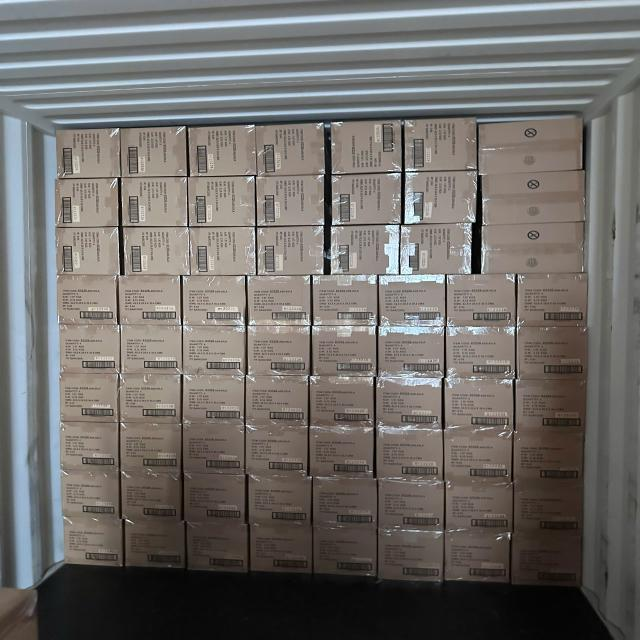Carton: (478, 117, 584, 175), (479, 172, 587, 226), (479, 222, 585, 276), (442, 380, 514, 439), (516, 430, 587, 487), (517, 382, 589, 438), (402, 175, 478, 228), (332, 121, 405, 176), (519, 273, 591, 328), (520, 326, 590, 382), (405, 119, 477, 173), (513, 536, 585, 590), (442, 429, 512, 484), (516, 483, 587, 537), (373, 380, 441, 436), (401, 222, 474, 274), (378, 431, 447, 486), (256, 125, 326, 179), (332, 176, 403, 229), (444, 328, 515, 381), (449, 275, 520, 328), (330, 223, 402, 275), (379, 530, 447, 585), (312, 378, 378, 434), (314, 477, 381, 532), (256, 179, 326, 231), (376, 481, 443, 535), (190, 125, 258, 178), (120, 178, 189, 230), (443, 484, 512, 536), (120, 126, 188, 178), (380, 328, 448, 380), (189, 179, 258, 230), (249, 477, 315, 530), (312, 429, 378, 482), (183, 275, 248, 328), (248, 275, 313, 328), (314, 276, 380, 328), (54, 470, 120, 522), (257, 229, 325, 279), (249, 327, 313, 380), (118, 275, 183, 327), (315, 529, 380, 581), (189, 226, 256, 276), (184, 422, 248, 474), (120, 422, 184, 474), (251, 527, 315, 579), (246, 376, 310, 428), (245, 427, 310, 478), (314, 328, 380, 378), (53, 128, 119, 178), (188, 525, 251, 577), (183, 373, 247, 424), (185, 474, 249, 525), (380, 280, 448, 328), (53, 180, 118, 230), (121, 228, 188, 276), (57, 324, 120, 375), (185, 328, 249, 378), (120, 327, 184, 377), (54, 228, 120, 276), (120, 372, 183, 422), (58, 518, 123, 566), (121, 473, 184, 522), (56, 274, 120, 322), (59, 372, 120, 422), (125, 523, 187, 572), (444, 540, 510, 584), (60, 423, 121, 470)
